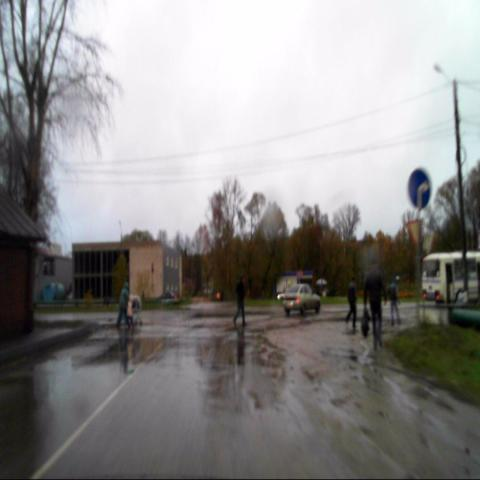4_1_2: (408, 167, 430, 211)
